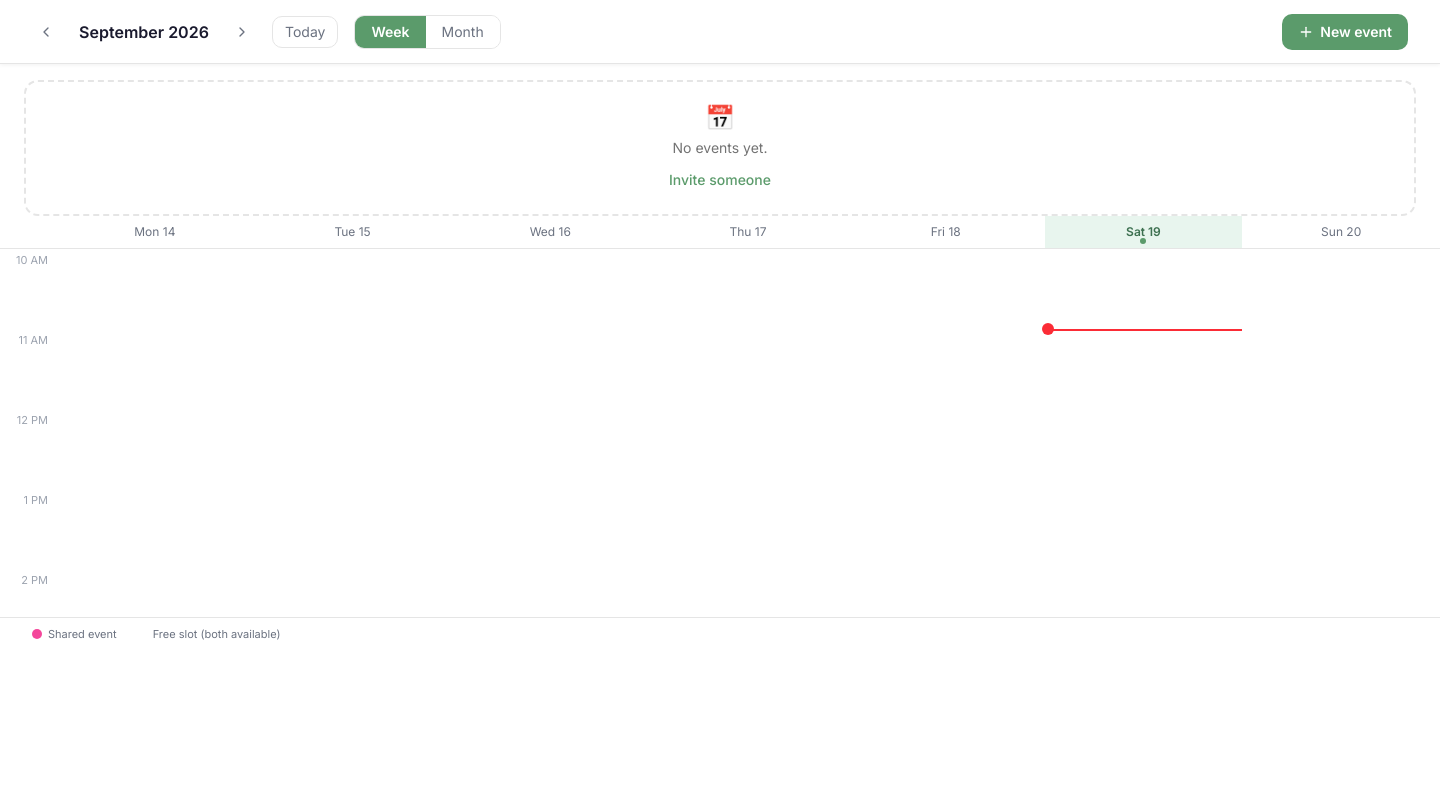
Test: LobbyCalendarView › "+ New event" opens CreateEventModal with the lobby locked
This screenshot has width=1440, height=810.
(page scrolled)
Click the button "New event" at point(1345, 32), box [1282,14,1408,50]
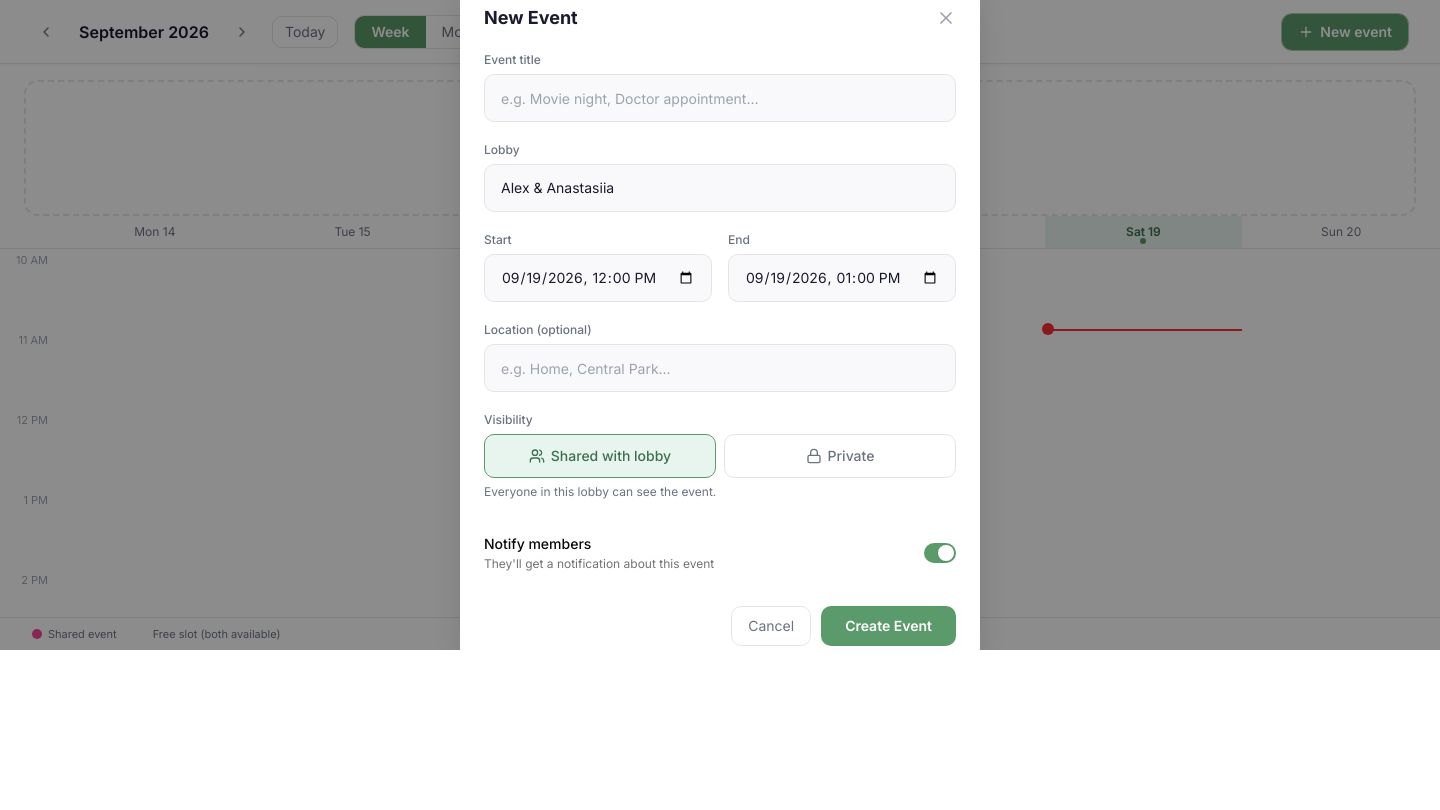
Expected: the text "Alex & Anastasiia" is shown, [484,164,956,212]
